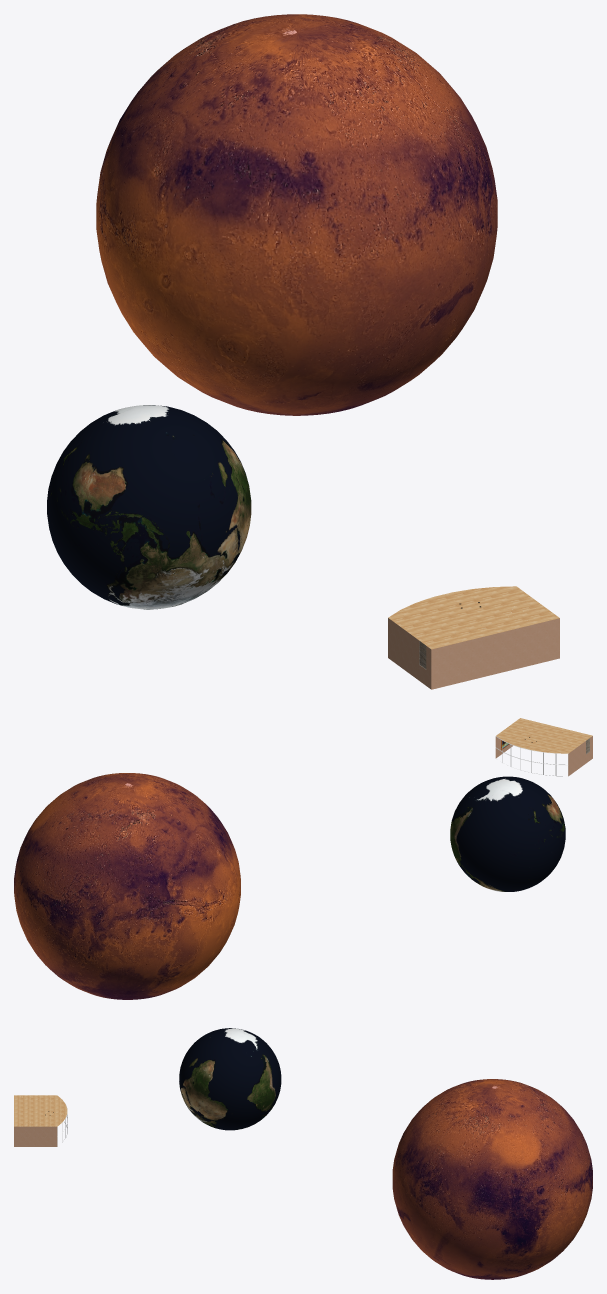
The model's file is room.glb.
The picture shows the model from 3 angles, top to bottom: view 1: azimuth 30°, elevation 25°; view 2: azimuth 150°, elevation 25°; view 3: azimuth 270°, elevation 25°; orthographic projection. The views are drawn at different scales.
Parts seen in each view (by area): view 1: Mars_Sphere.006, Earth_Sphere.005, Room_Mesh.001; view 2: Mars_Sphere.006, Earth_Sphere.005, Room_Mesh.001; view 3: Mars_Sphere.006, Earth_Sphere.005, Room_Mesh.001.
Part boxes in pixels (left/top/right/bottom): Mars_Sphere.006: left=96, top=14, right=497, bottom=415; Earth_Sphere.005: left=47, top=405, right=251, bottom=609; Room_Mesh.001: left=388, top=586, right=559, bottom=689; Mars_Sphere.006: left=14, top=773, right=240, bottom=999; Earth_Sphere.005: left=450, top=776, right=565, bottom=891; Room_Mesh.001: left=495, top=718, right=592, bottom=776; Mars_Sphere.006: left=392, top=1079, right=592, bottom=1279; Earth_Sphere.005: left=179, top=1028, right=281, bottom=1130; Room_Mesh.001: left=14, top=1095, right=67, bottom=1146.
Bounding box in the file's own units: 70.85 × 36.71 × 106.
Materials: 11 (10 with a texture image).
